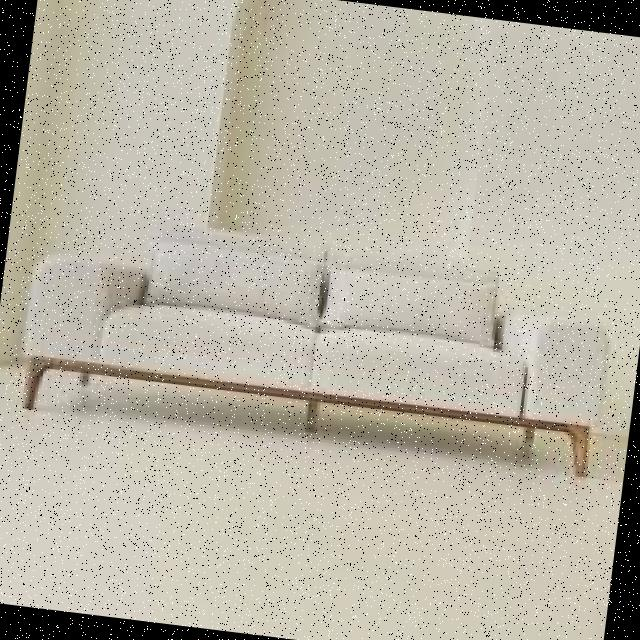Sofa: (0, 181, 628, 496)
